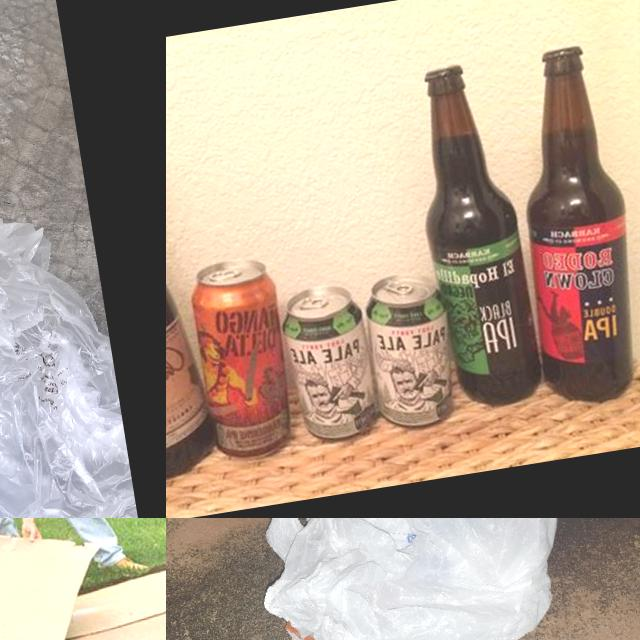aba de lata: (382, 278, 414, 298), (208, 266, 242, 282), (297, 294, 329, 310)
garrafa de vidro: (493, 40, 640, 412), (401, 58, 548, 412), (166, 58, 226, 494)
lata: (186, 252, 304, 462), (357, 267, 464, 432), (277, 280, 382, 446)
papelão: (0, 518, 126, 640), (19, 537, 166, 640)
sacola plástica: (0, 196, 145, 518), (234, 518, 603, 640)
